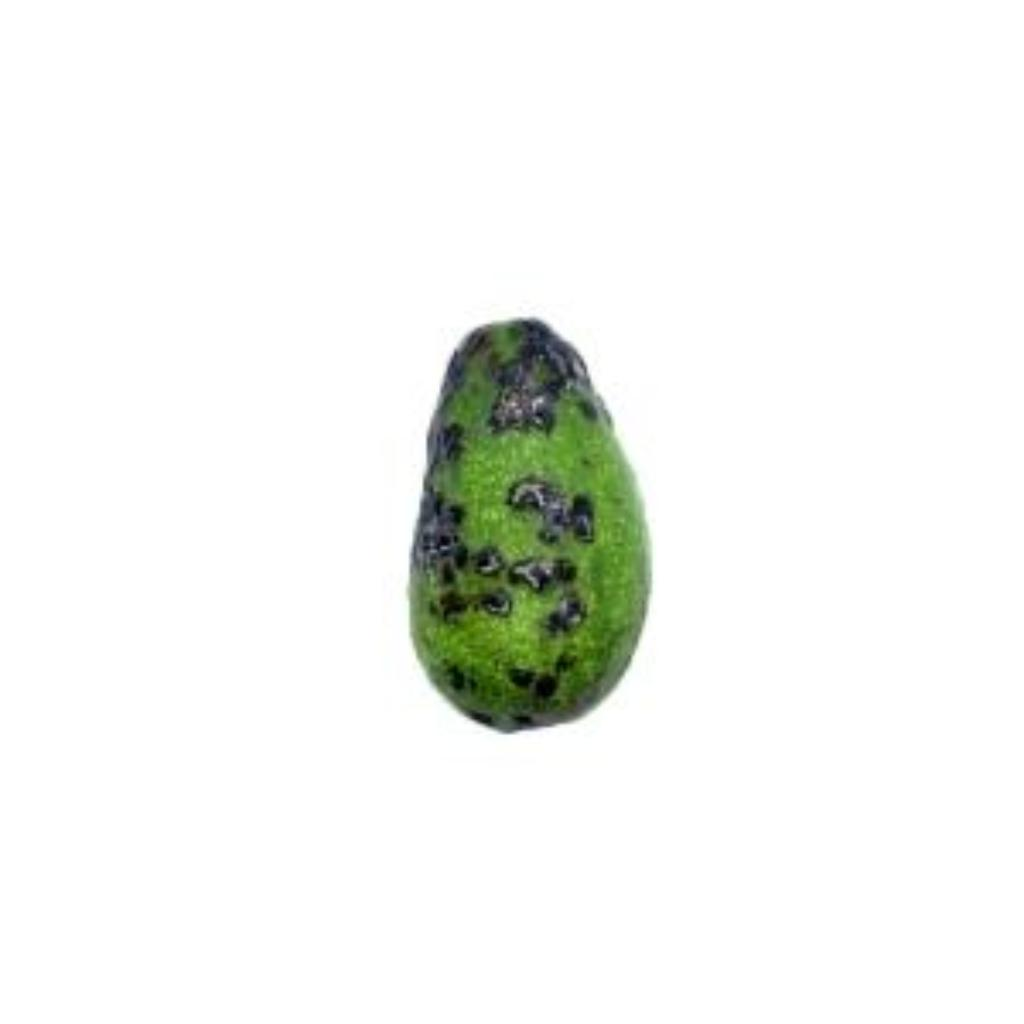cercospora_spot: (378, 304, 690, 744)
